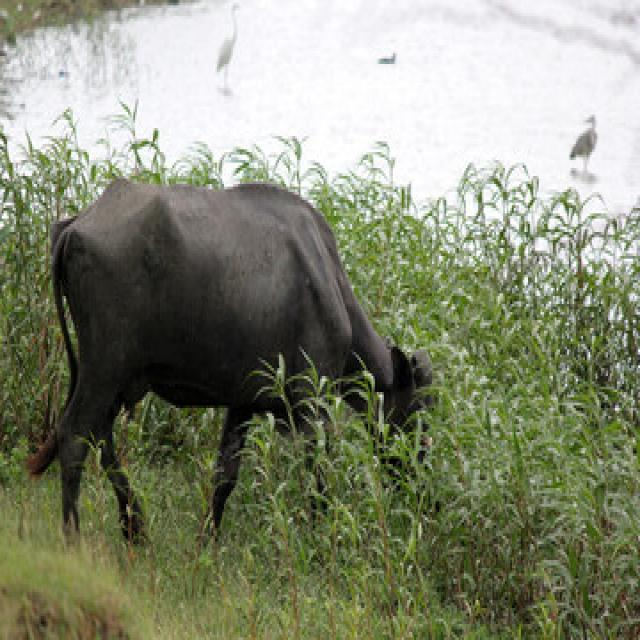Buffalo: (23, 171, 437, 552)
